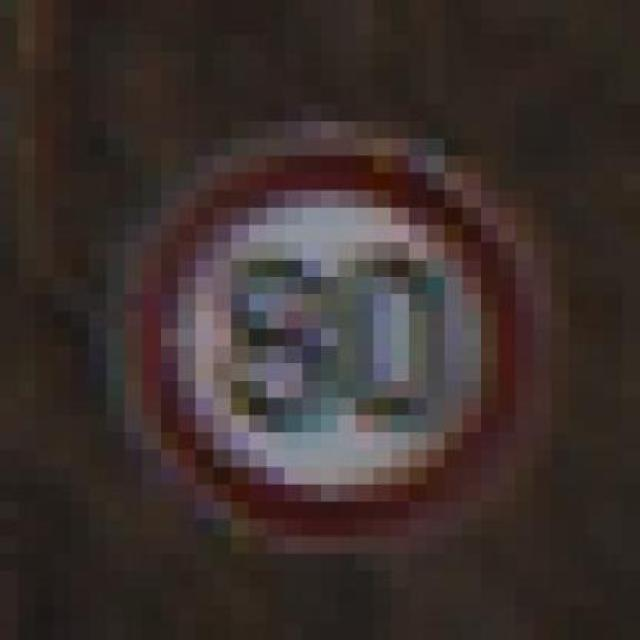forb_speed_over_80: (140, 136, 529, 538)
